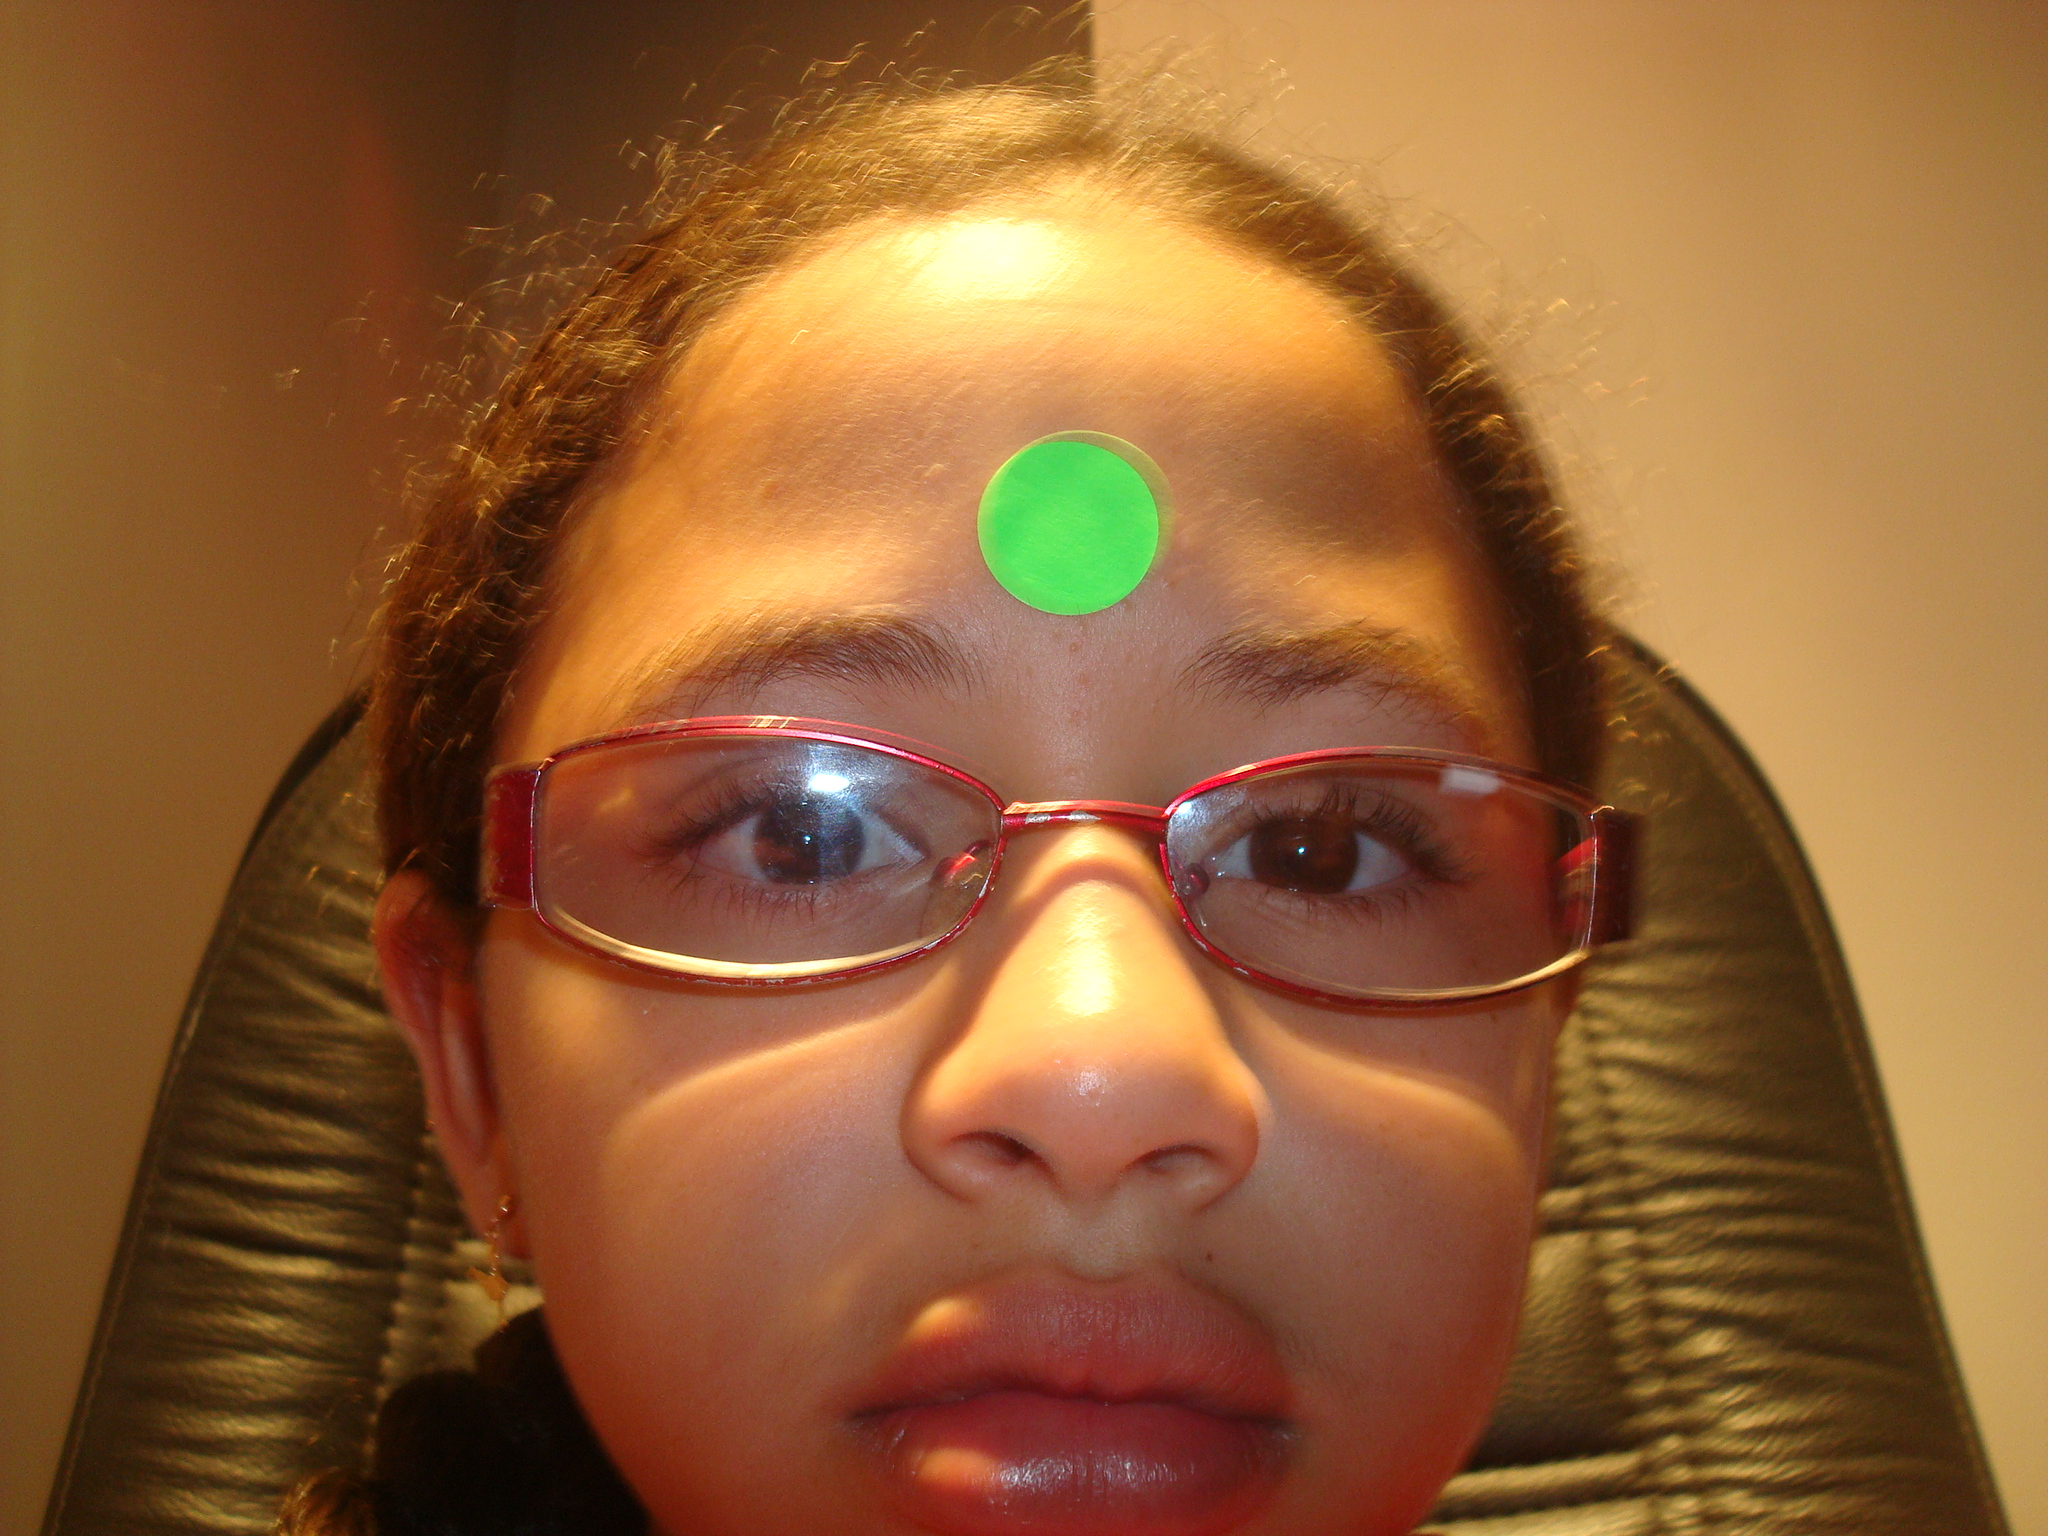flash: (800, 833, 814, 845), (1295, 845, 1308, 857)
limbo: (753, 792, 863, 894), (1245, 813, 1358, 895)
